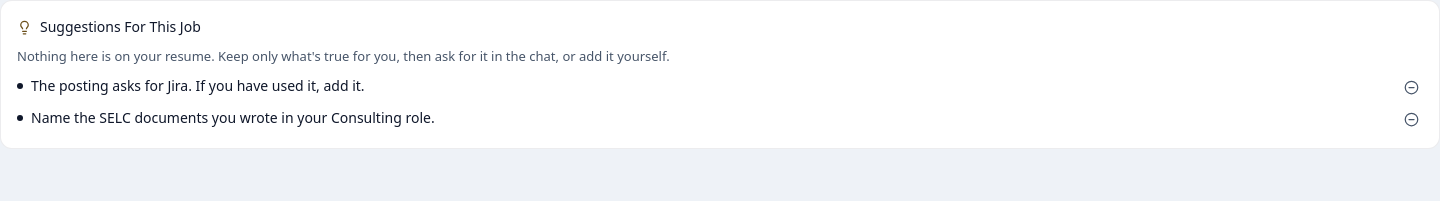
Test: ResumeSuggestions › dismisses one to the bottom, folded away, and restores it
Click the button named "Dismiss: The posting asks for Jira. If you have used it, add" at (1411, 88), box x1=1399 y1=76 x2=1423 y2=100
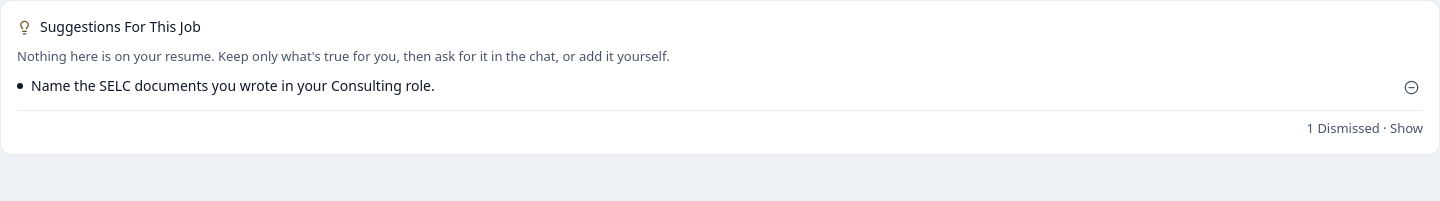
Expected: the number of list items is 1, x1=17 y1=76 x2=1423 y2=100
Click the button "1 dismissed · Show" at (1365, 128), box x1=1307 y1=119 x2=1423 y2=138
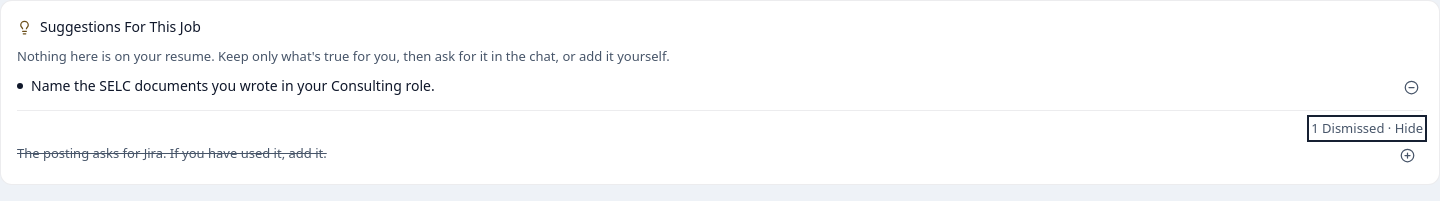
Click the button named "Restore: The posting asks for Jira. If you have used it, add" at (1407, 156), box x1=1395 y1=144 x2=1419 y2=168
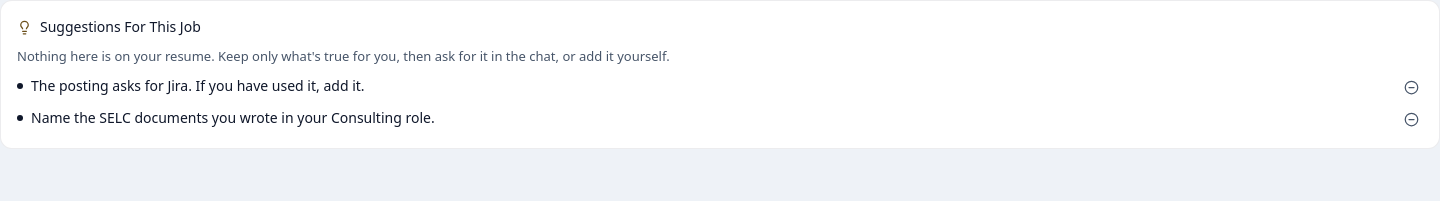
Expected: the button "dismissed ·" is gone
